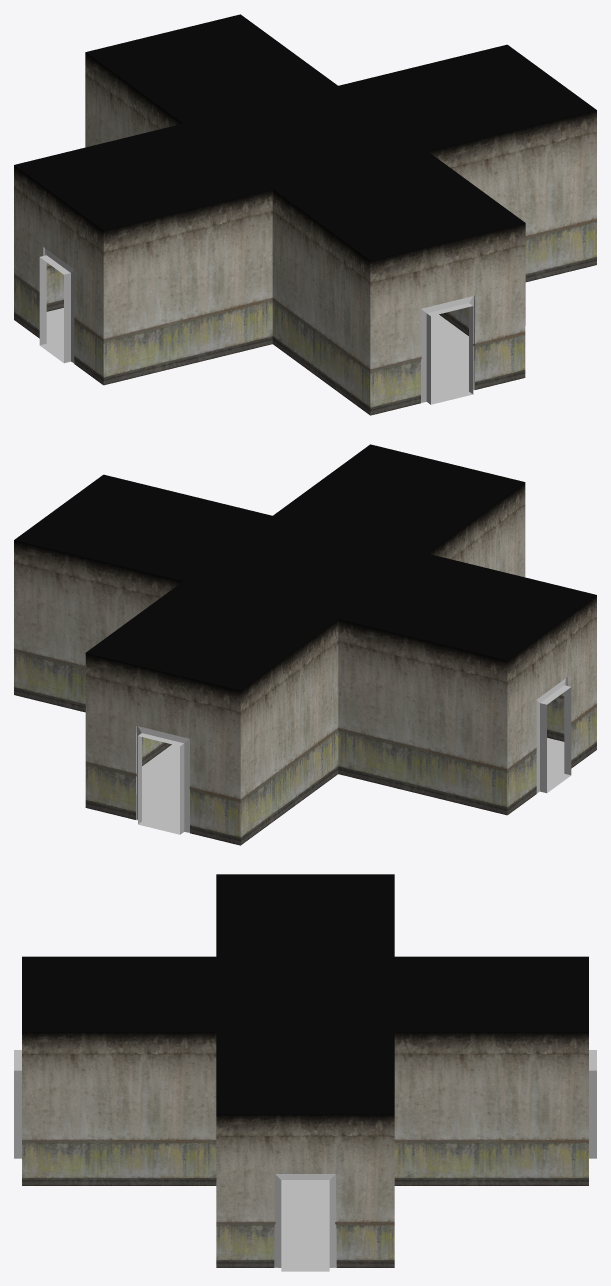
The model's file is X-Intersection_3x3.FBX.
The picture shows the model from 3 angles, top to bottom: view 1: azimuth 30°, elevation 25°; view 2: azimuth 150°, elevation 25°; view 3: azimuth 270°, elevation 25°; orthographic projection.
Parts seen in each view (by area): view 1: X-Intersection_3x3; view 2: X-Intersection_3x3; view 3: X-Intersection_3x3.
Part boxes in pixels (x1=…): X-Intersection_3x3: x1=14, y1=14, x2=596, y2=415; X-Intersection_3x3: x1=14, y1=444, x2=596, y2=845; X-Intersection_3x3: x1=14, y1=874, x2=596, y2=1271.
Size of what is drawn, in the model's own units: 1417 by 413 by 1417.
